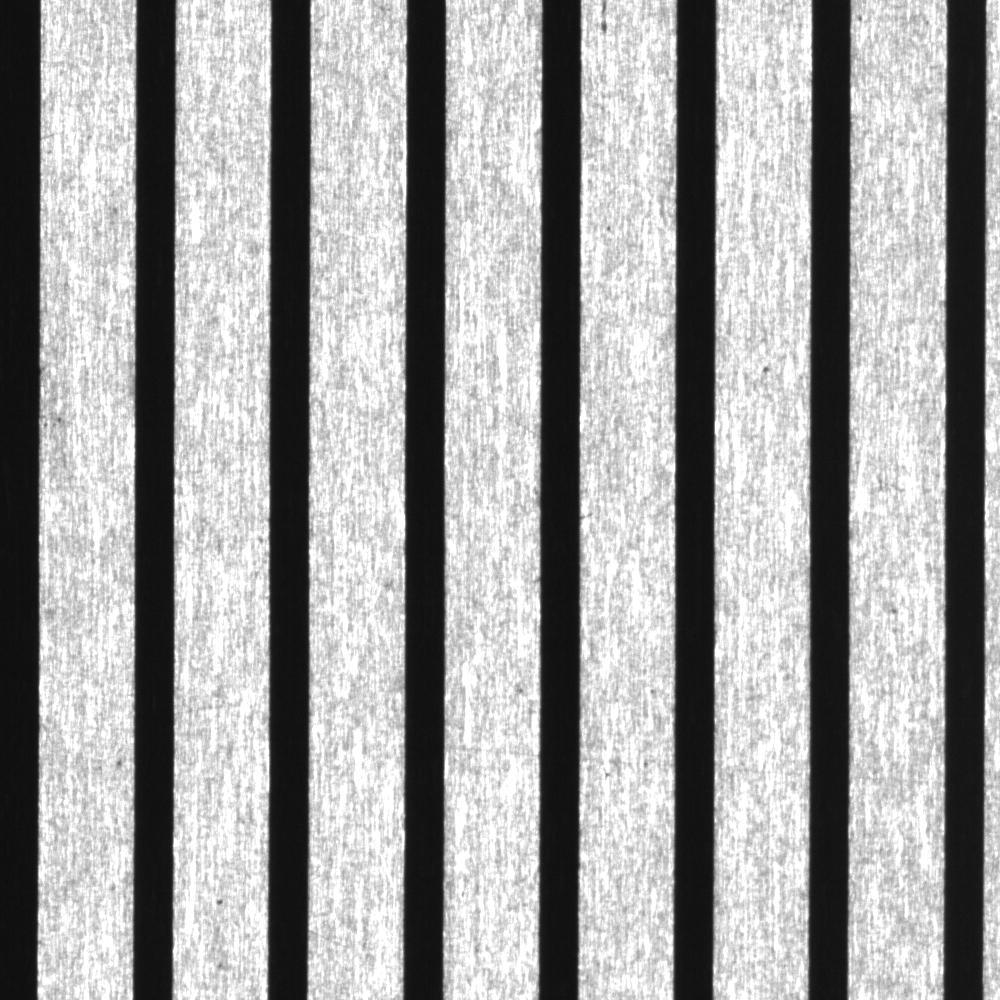Etching: (589, 1, 624, 41), (205, 886, 232, 911)
Pinhole: (100, 742, 131, 780), (881, 593, 911, 629), (750, 350, 779, 387)
Scar: (446, 374, 541, 443), (443, 735, 539, 764)
